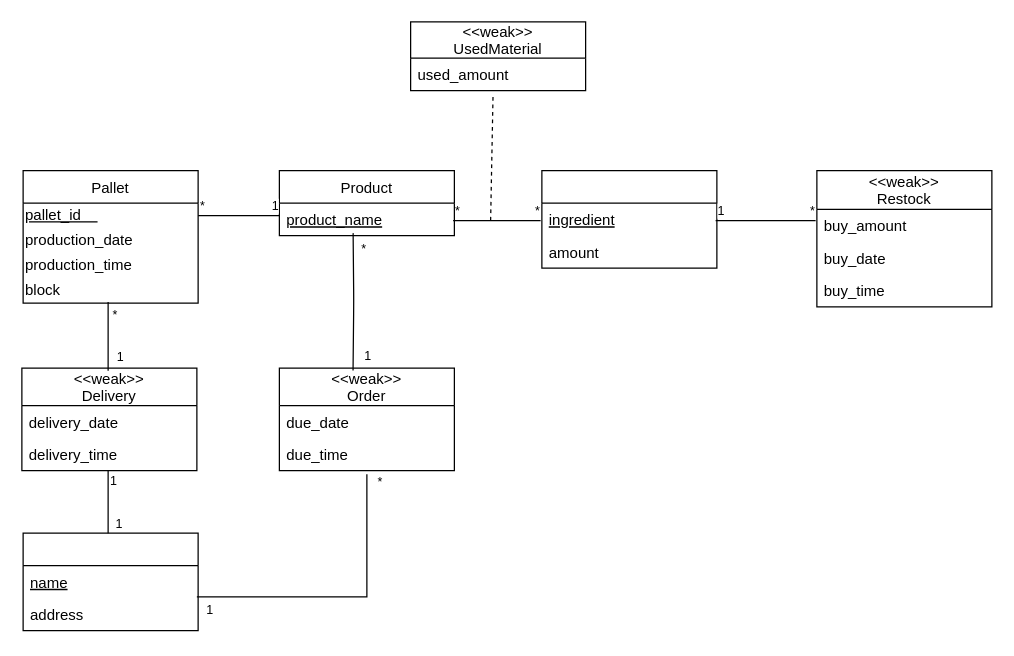
Some shapes in this 1014 by 656 pixel diagram are drawn without their labels. The box of each missing label's shape, as (x1, y1, x2, y2) in pixels:
Customer: (22, 532, 198, 631)
Material: (541, 169, 717, 268)
